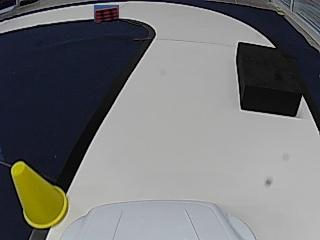block: (236, 42, 302, 116)
cone: (9, 162, 69, 228)
